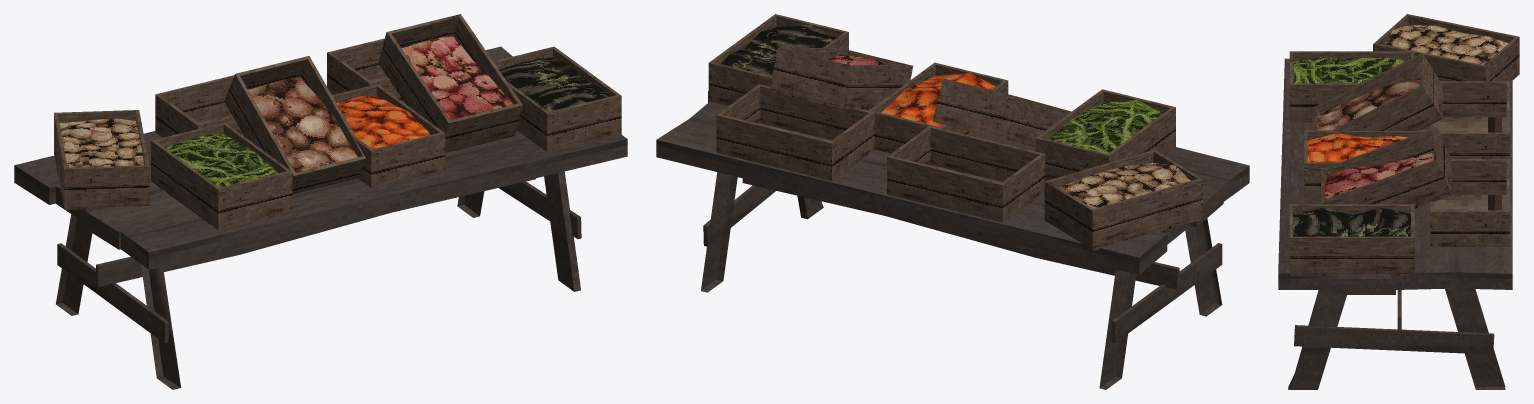
The model's file is table_prebuild.glb.
3 renders of one model, left to right at view 1: azimuth 30°, elevation 25°; view 2: azimuth 150°, elevation 25°; view 3: azimuth 270°, elevation 25°, orthographic. The views are drawn at different scales.
Parts seen in each view (by area): view 1: table_prebuild; view 2: table_prebuild; view 3: table_prebuild.
Boxes of the visible parts, <box> form: table_prebuild: <box>14,14,627,389</box>; table_prebuild: <box>656,14,1249,389</box>; table_prebuild: <box>1278,14,1519,389</box>.
Bounding box in the file's own units: 3.98 × 1.73 × 1.78.
Materials: 2 (2 with a texture image).
